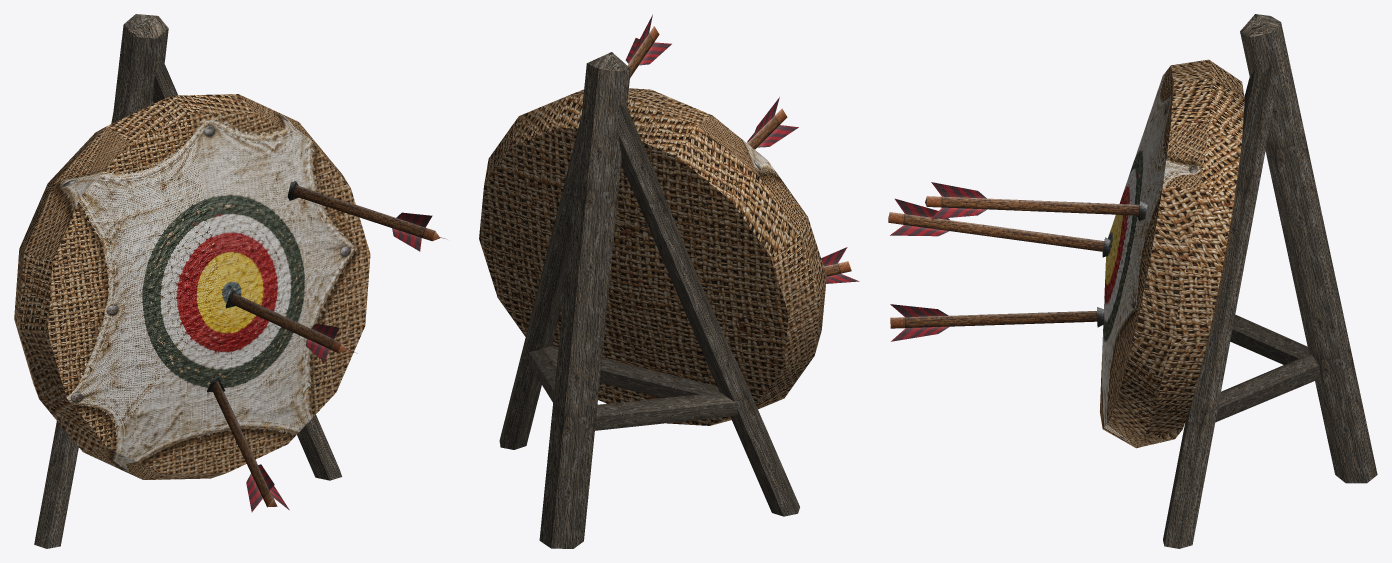
File: mm9_deco_trainingarchery1.glb
The picture shows the model from 3 angles, left to right: view 1: azimuth 30°, elevation 25°; view 2: azimuth 150°, elevation 25°; view 3: azimuth 270°, elevation 25°; orthographic projection. The views are drawn at different scales.
Parts seen in each view (by area): view 1: Trainingarchery1; view 2: Trainingarchery1; view 3: Trainingarchery1.
Boxes of the visible parts, x1,y1,x2,y2 form: Trainingarchery1: (14, 14, 446, 548); Trainingarchery1: (479, 14, 859, 548); Trainingarchery1: (888, 14, 1377, 548).
Size of the model in its own units: 1.2 by 1.54 by 1.48.
Materials: 2 (2 with a texture image).
